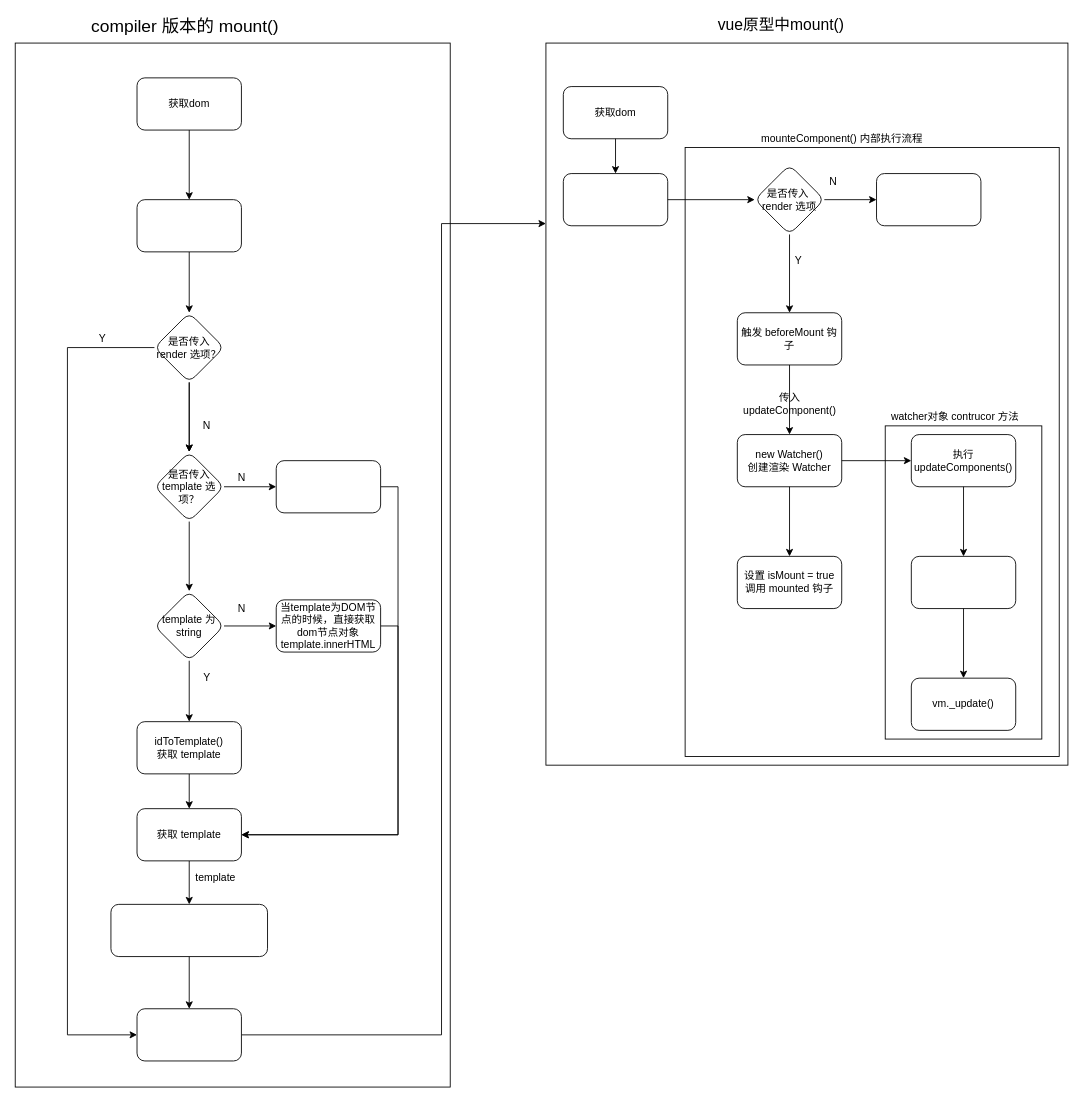
Some shapes in this 1083 by 1102 pixel diagram are drawn without their labels. The box of each missing label's shape, as (x1, y1, x2, y2) in pixels:
compileToFunctions(template) 开始编译模板: (110, 903, 268, 957)
getOuterHTML(el): (275, 460, 381, 513)
mountComponent(): (562, 173, 668, 226)
vm._render(): (910, 555, 1016, 609)
创建空Vnode: (876, 173, 981, 226)
返回vue原型中mount: (136, 1008, 241, 1061)
限制 vue 不能挂到 body 和 html 上: (136, 199, 241, 252)
